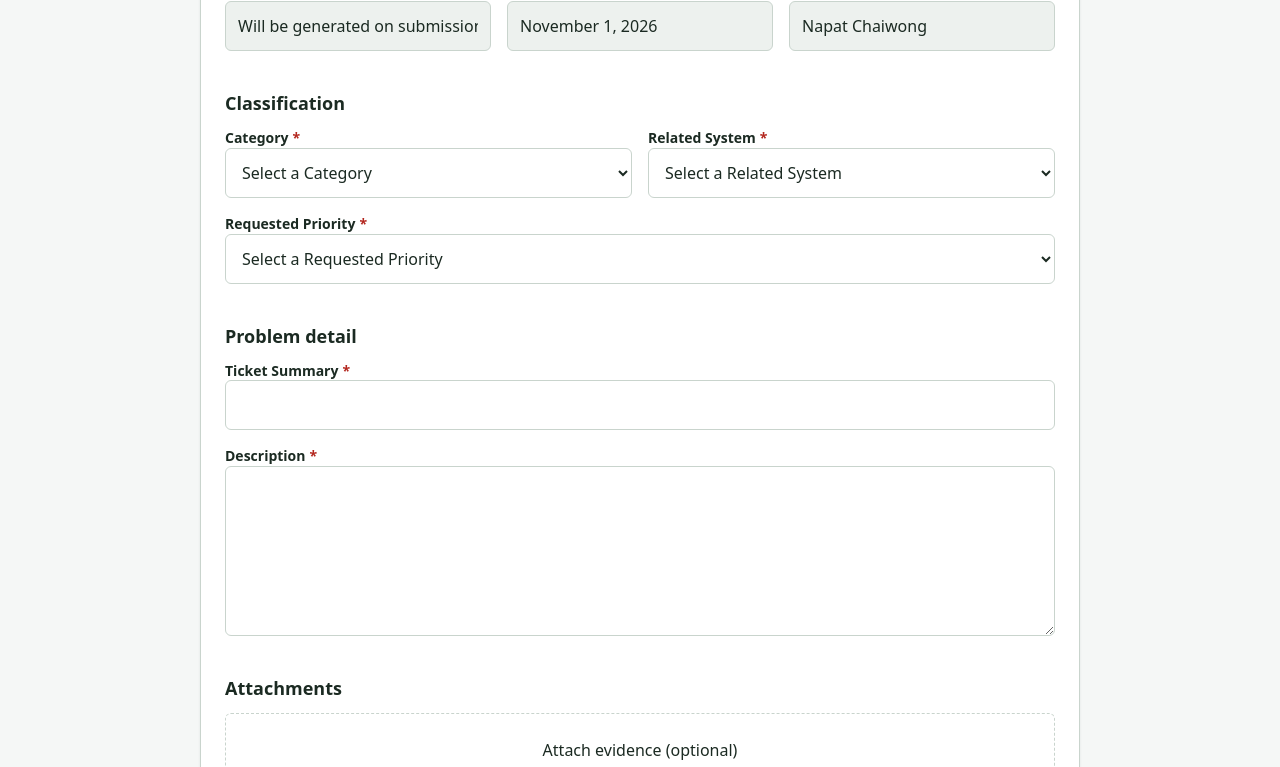
it: CreateTicket (UI-14 - AC-16) › keeps every entered value and re-enables Submit after a failed creation
Step 1. Select "Hardware" in the dropdown with test id "field-category" → (428, 173), box [225,148,632,198]
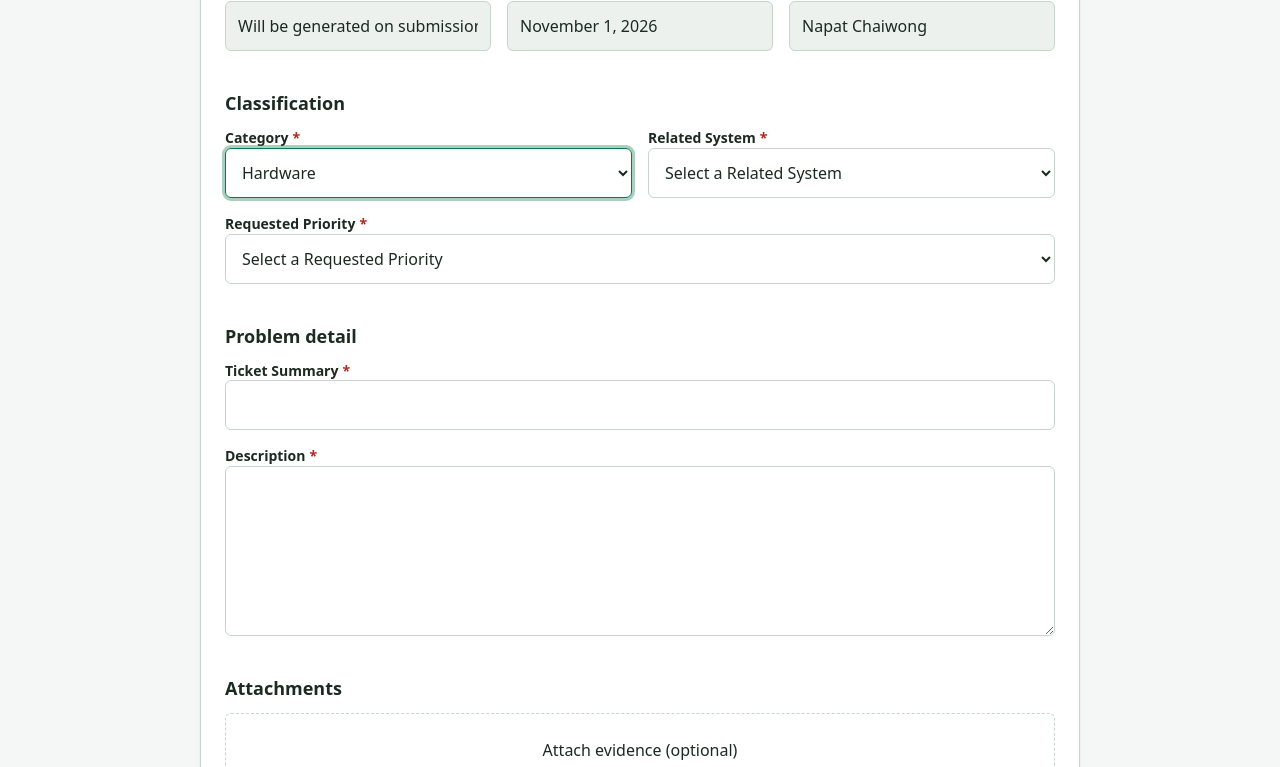
Step 2. Select "Corporate Laptop" in the dropdown with test id "field-related-system" → (852, 173), box [648,148,1055,198]
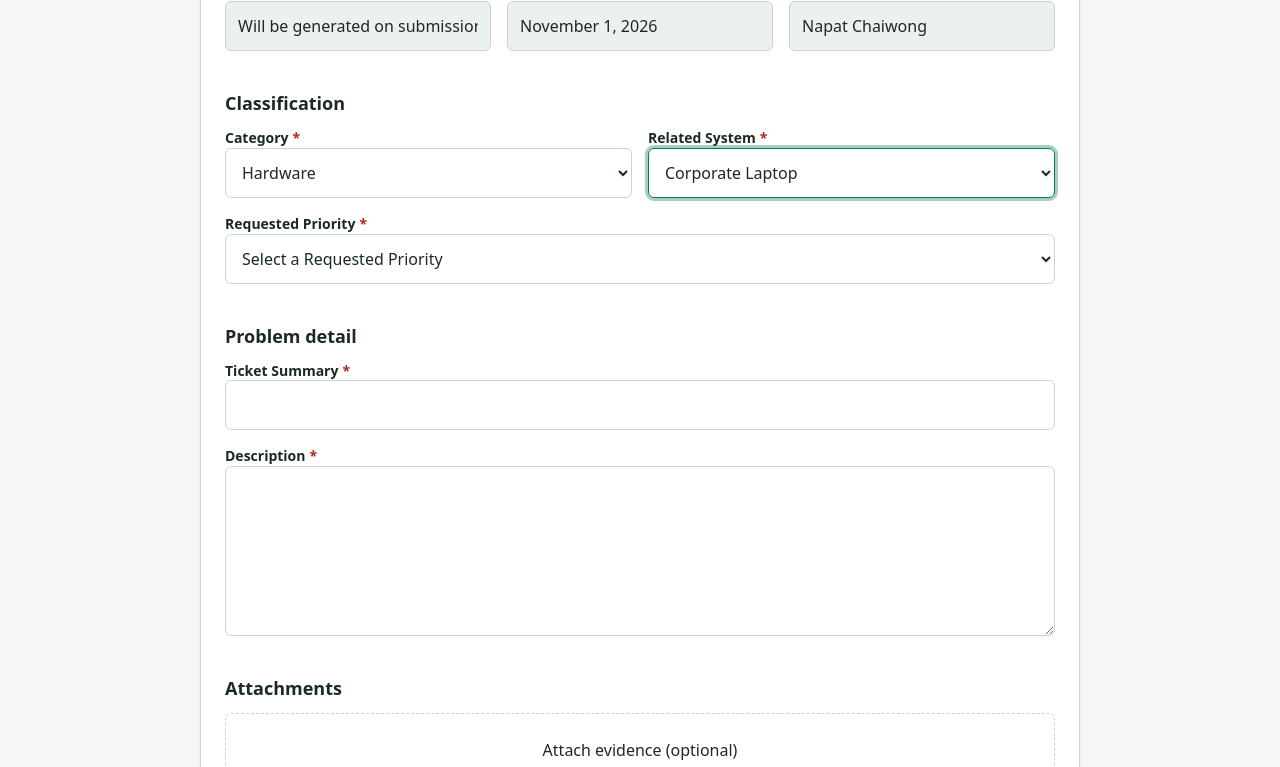
Step 3. Select "High" in the dropdown with test id "field-priority" → (640, 258), box [225,234,1055,284]
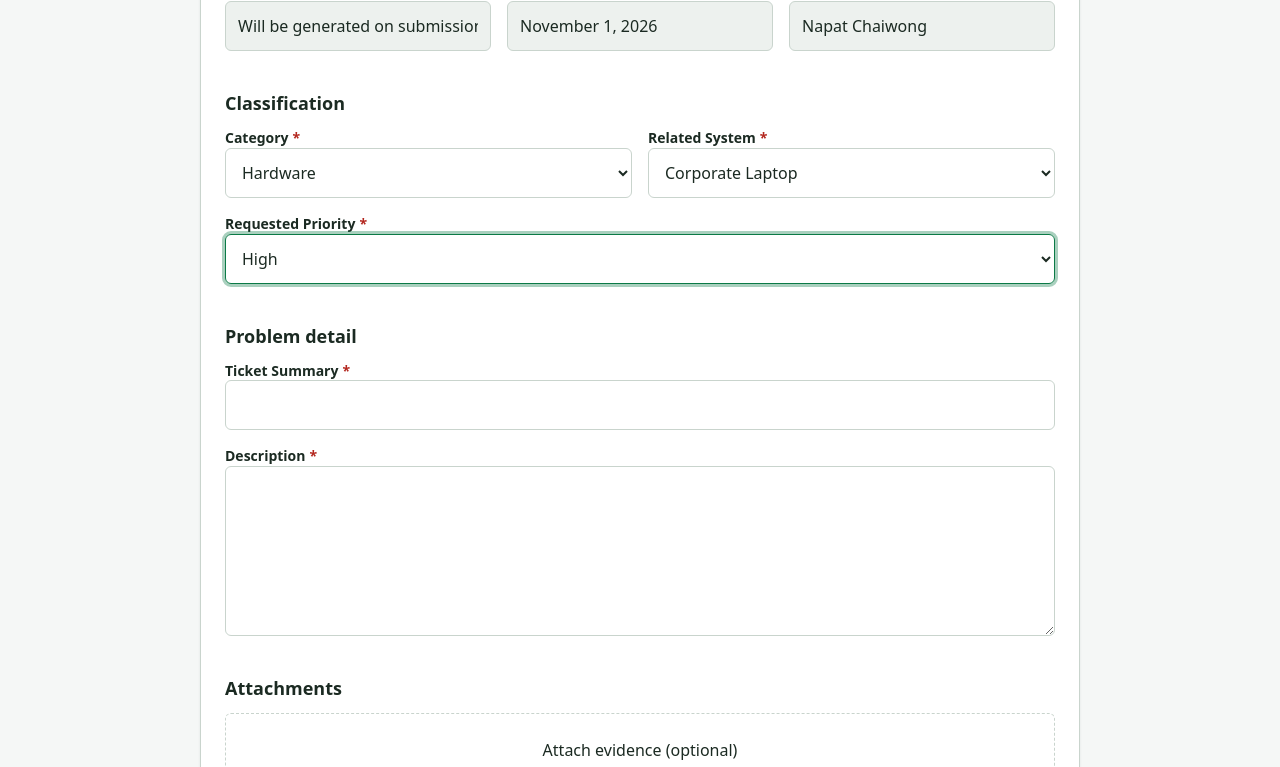
Step 4. Type "Laptop battery drains within one hour" into the field with test id "field-summary" → (640, 405), box [225,380,1055,430]
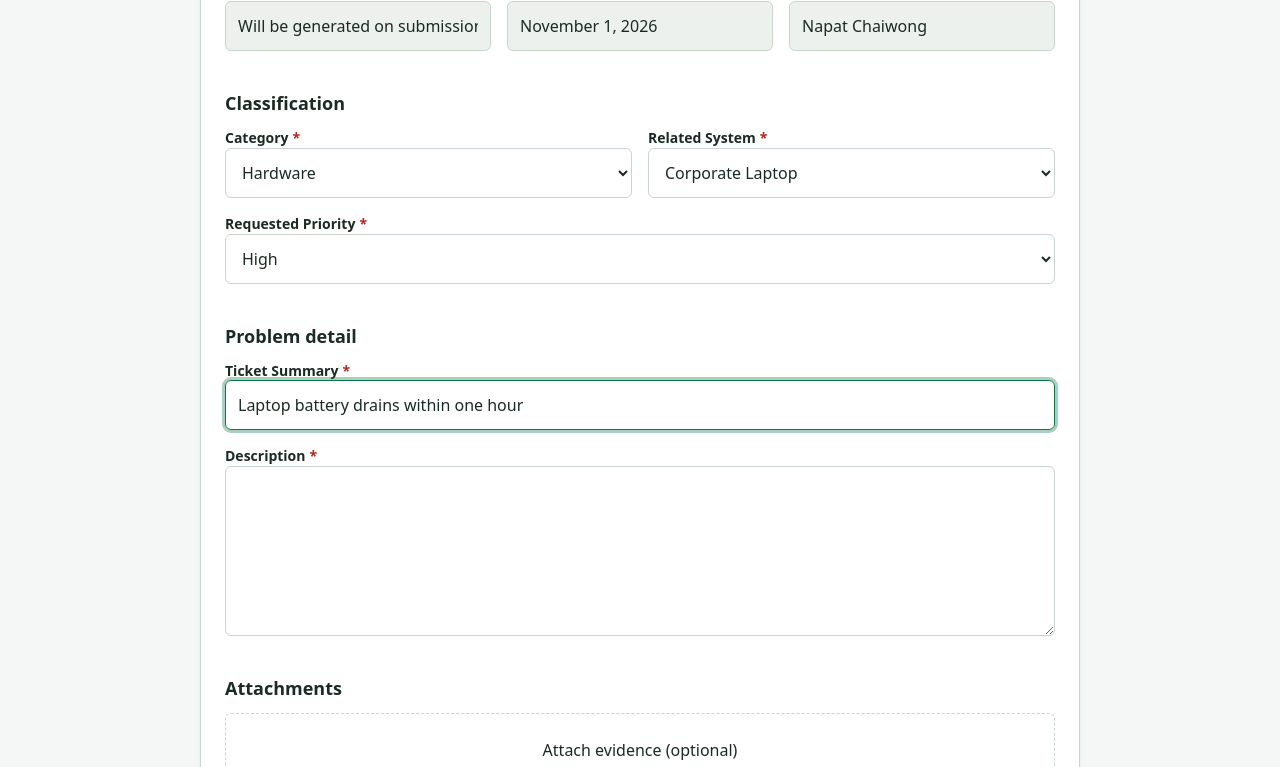
Step 5. Type "Since the last Windows update the battery drops from full to nearly empty in about an hour." into the text box with test id "field-description" → (640, 551), box [225,466,1055,636]
(page scrolled)
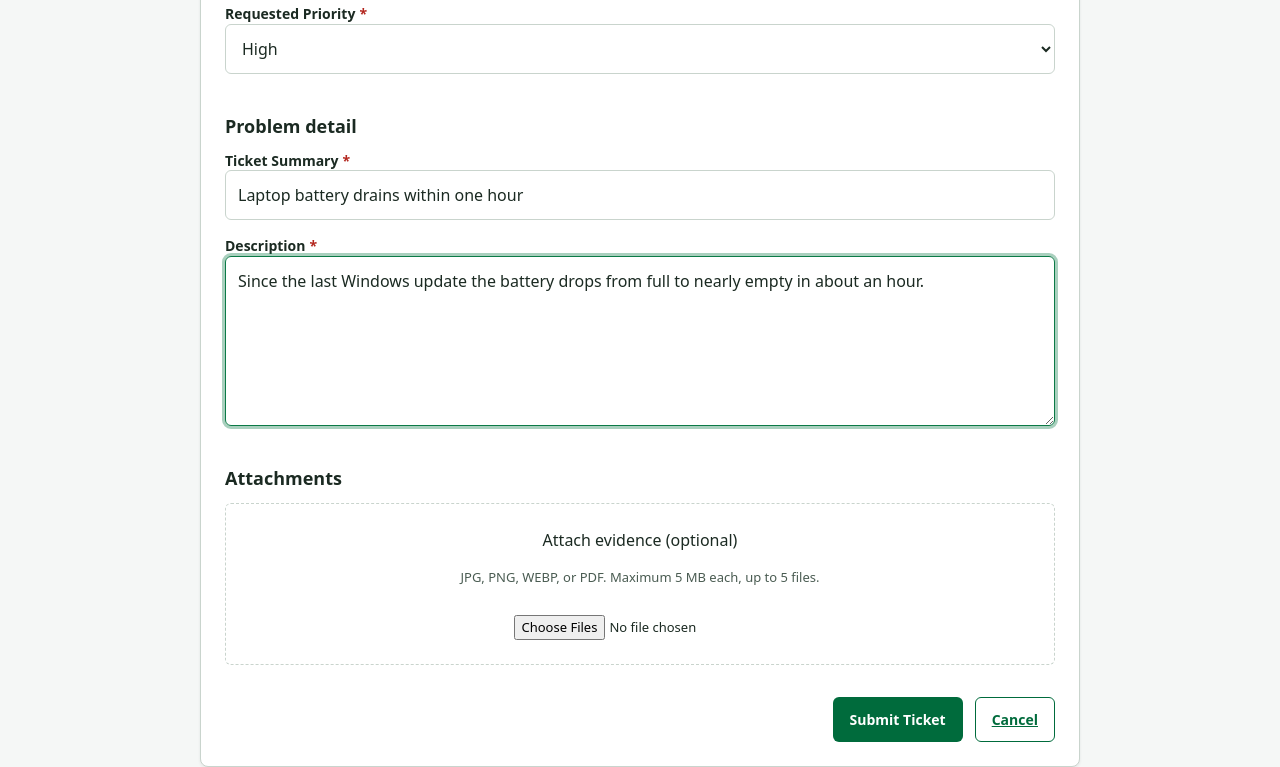
Step 6. Click the button with test id "btn-submit-ticket" → (898, 720), box [833,697,963,742]
(page scrolled)
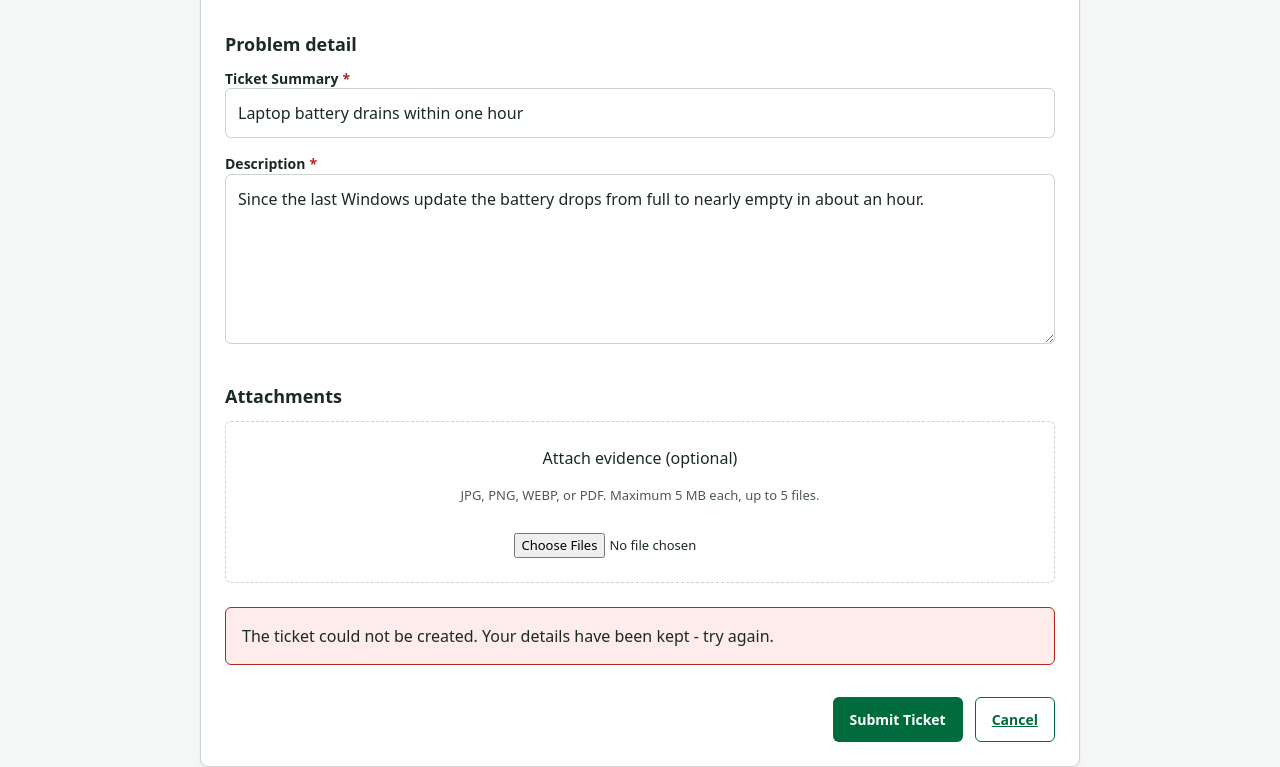
Expected: the message "The ticket could not be created. Your details have been kept - try again." is shown, [225,607,1055,665]
